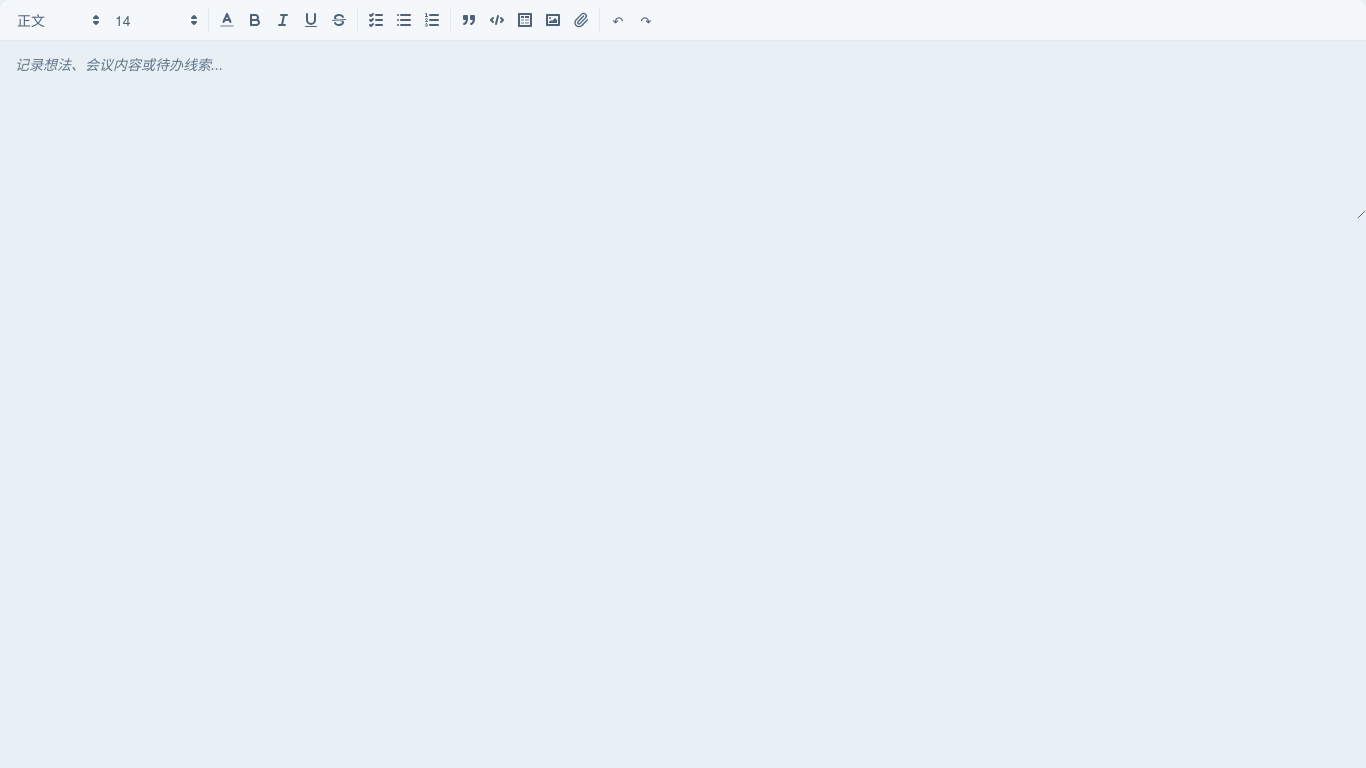
Test: MagicNoteEditor › allows deleting the last row and column without corrupting the document
Click the button named "插入表格": (525, 20) [511,8,539,32]
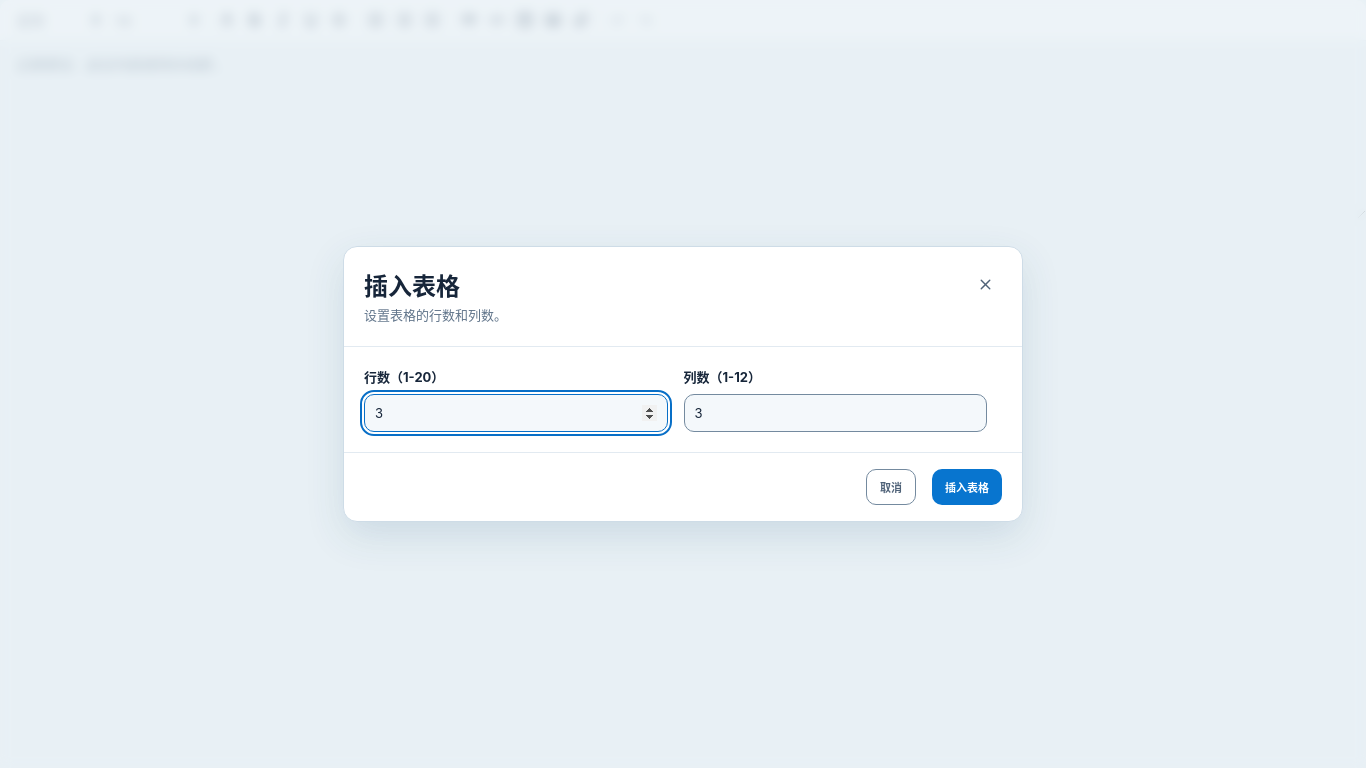
Replace the text in the number field labelled "行数（1-20）" with "1": (516, 413) [364,394,668,432]
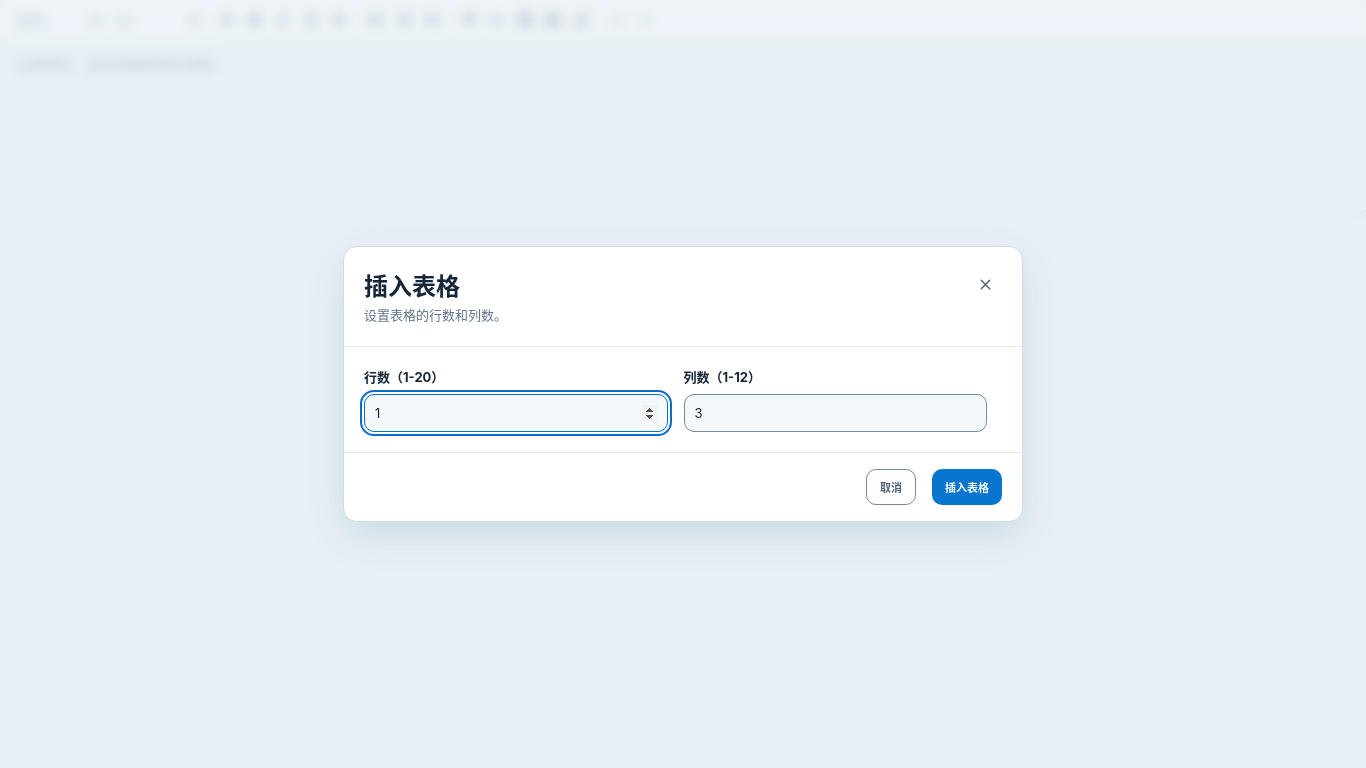
Replace the text in the number field labelled "列数（1-12）" with "1": (835, 413) [684,394,987,432]
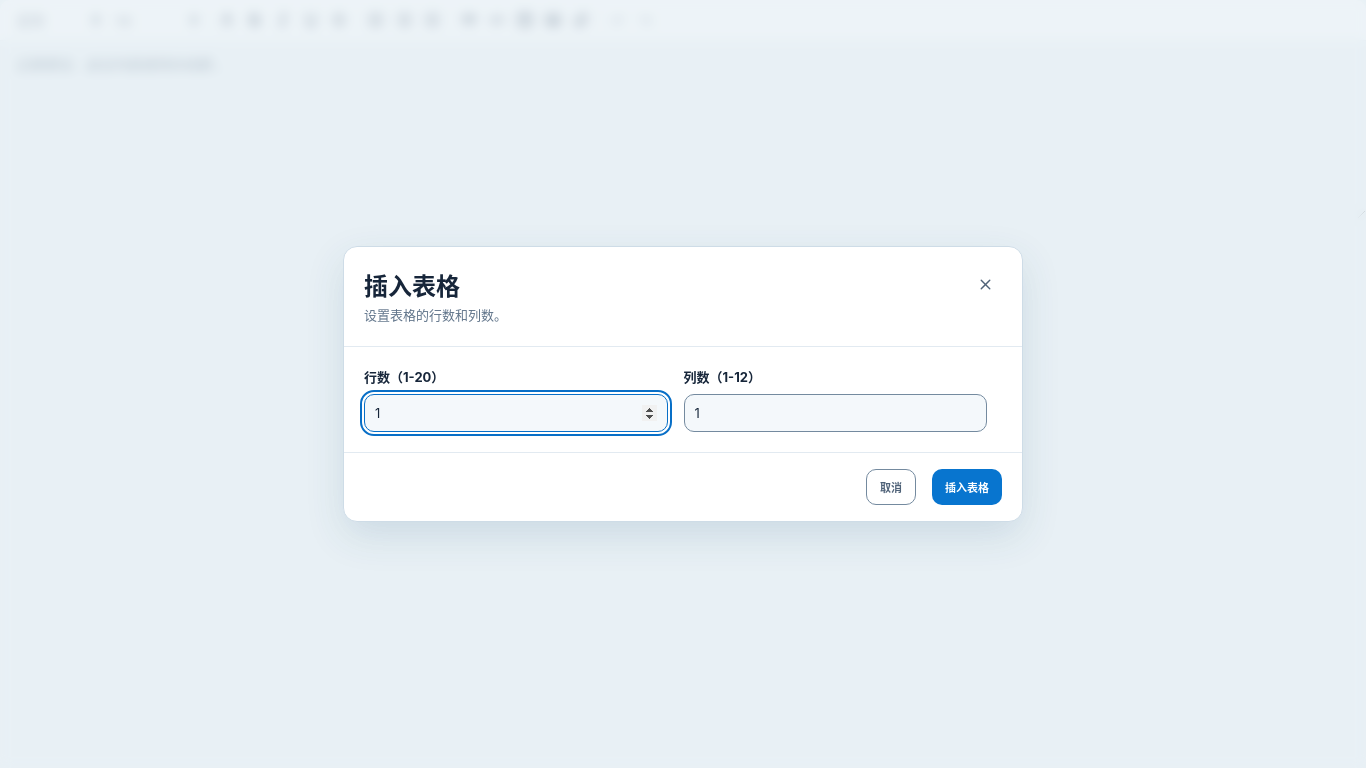
Click the button "插入表格": (967, 487) [932,469,1002,505]
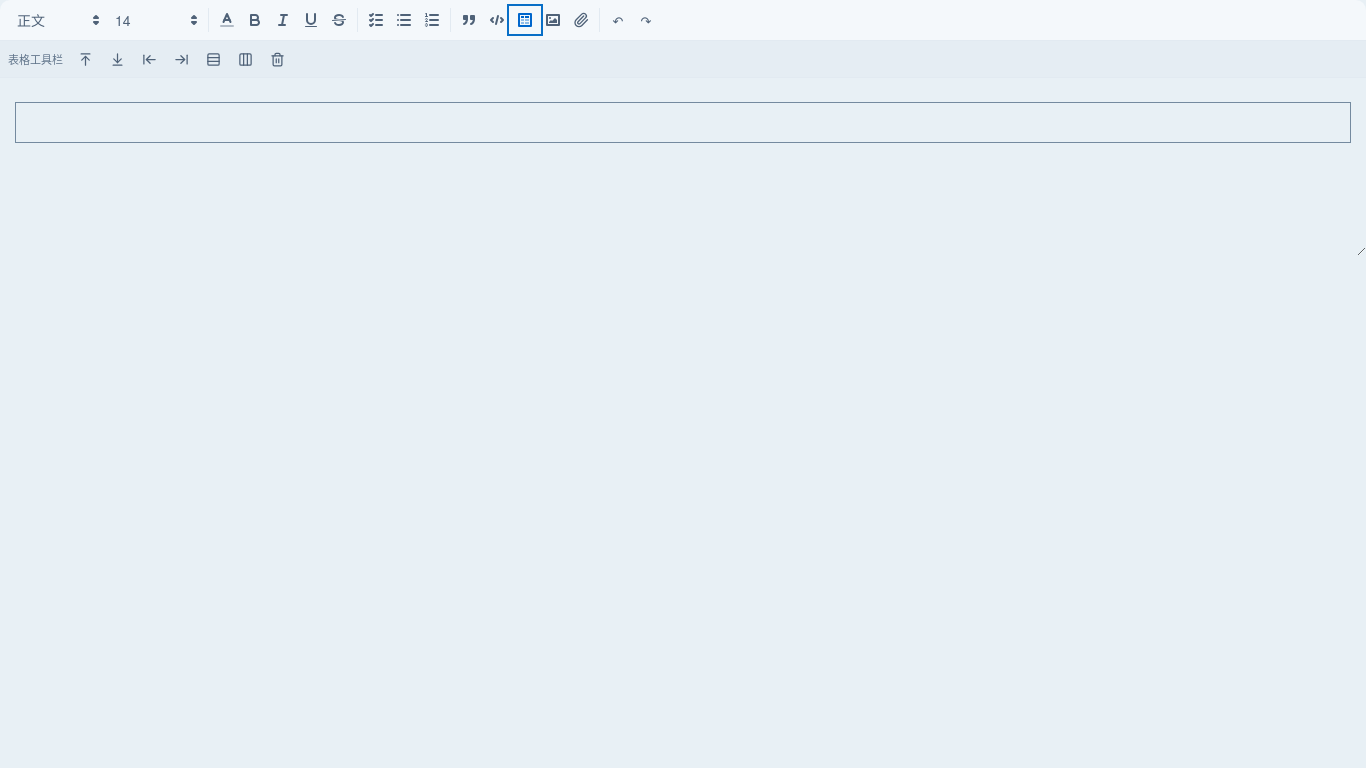
Expected: the number of cells is 1, [16,102,1350,143]
Click the button with class "magic-note-editor__table-action--delete-row": (213, 59) [199,45,227,73]
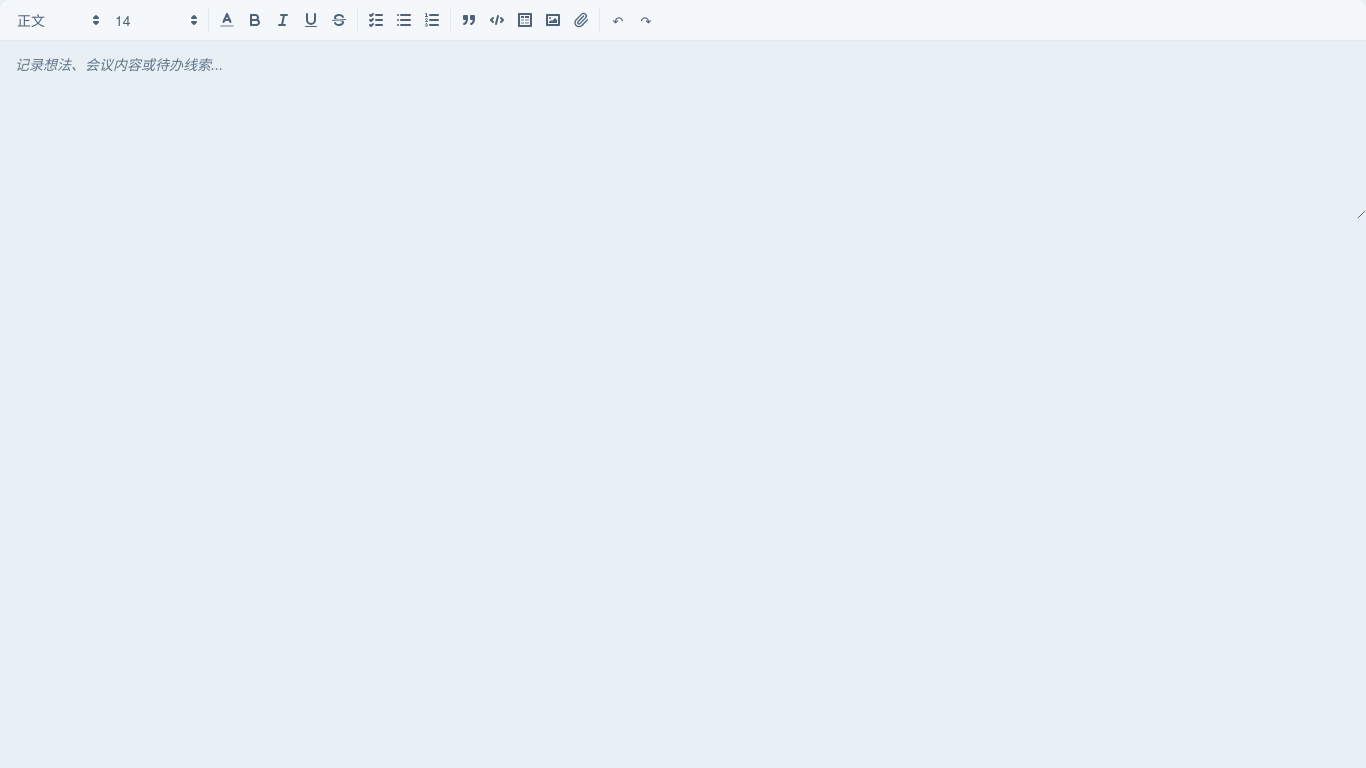
Expected: no cells are shown
Expected: the element with class "magic-note-editor__table-toolbar" is gone
